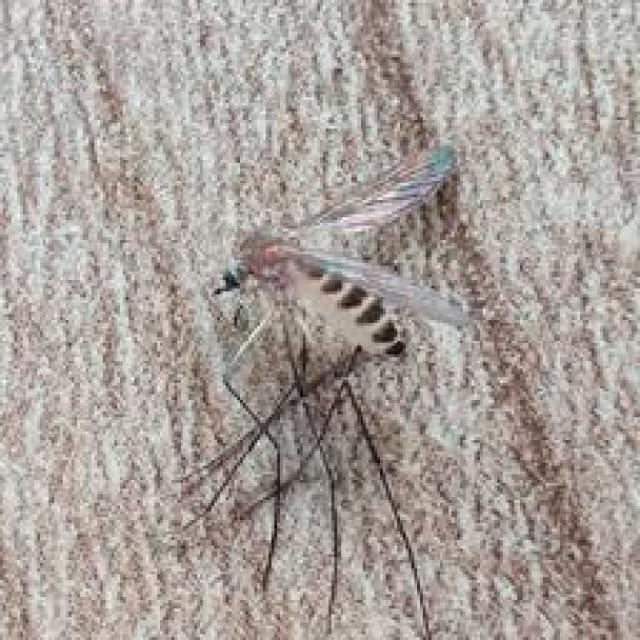Culex: (210, 227, 473, 370)
